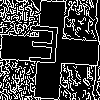E: (25, 25, 62, 73)
